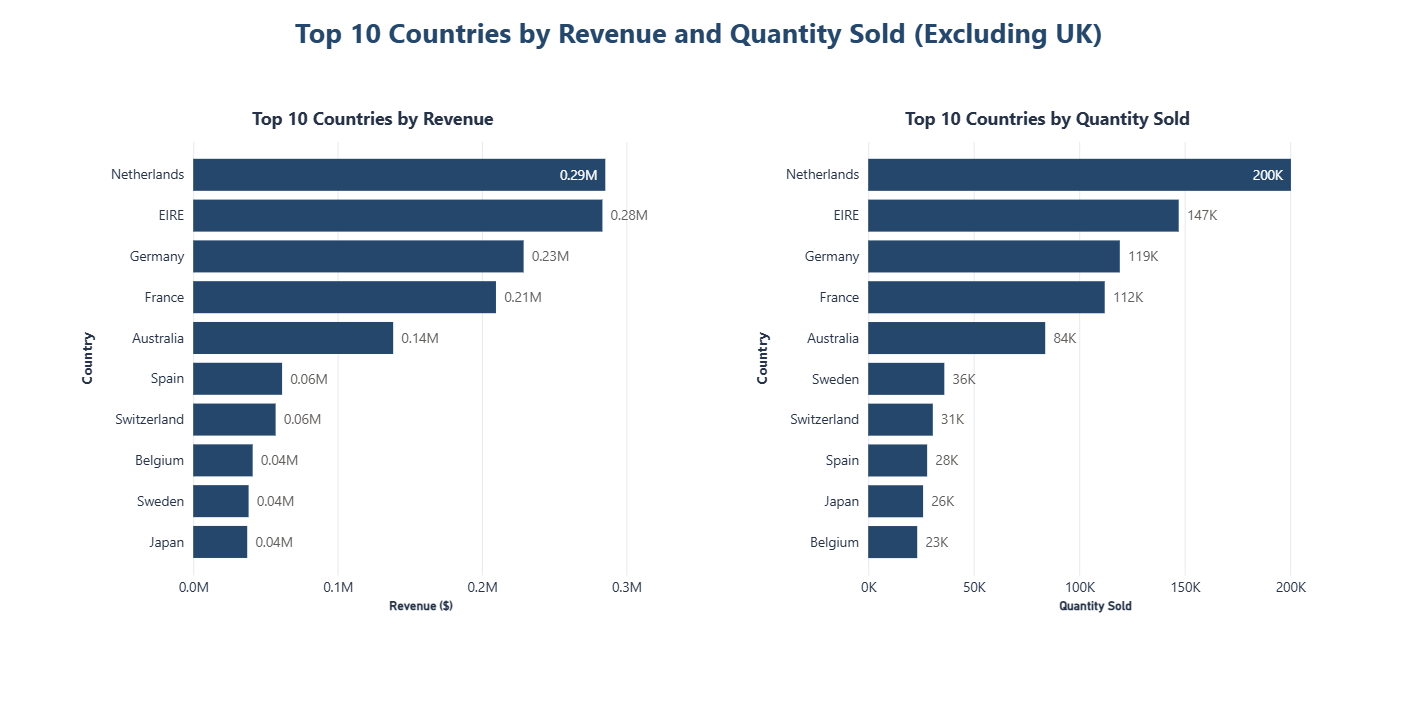

The dashboard page shown, as its layout file describes it:
{"tool":"powerbi","page":{"name":"Q2-Top Countries","canvas":[1400,720],"ordinal":1},"visuals":[{"type":"clusteredBarChart","title":"Top 10 Countries by Revenue ","fields":{"Category":["Online Retail Data Set.Country"],"Y":["Sum(Online Retail Data Set.Revenue)"]},"box":[80,110,580,500],"z":0},{"type":"textbox","box":[288,15,824.2,62.4],"z":1},{"type":"clusteredBarChart","title":"Top 10 Countries by Quantity Sold","fields":{"Category":["Online Retail Data Set.Country"],"Y":["Sum(Online Retail Data Set.Quantity)"]},"box":[740,110,579.6,500.1],"z":2}]}

Visuals, with their boxes in screenshot pixels (x1, y1, x2, y2), scaled from the page's 1400x720 canvas onto the 1422x725 screenshot:
"Top 10 Countries by Revenue " clusteredBarChart: {"left": 81, "top": 111, "right": 670, "bottom": 614}
textbox: {"left": 293, "top": 15, "right": 1130, "bottom": 78}
"Top 10 Countries by Quantity Sold" clusteredBarChart: {"left": 752, "top": 111, "right": 1340, "bottom": 614}
